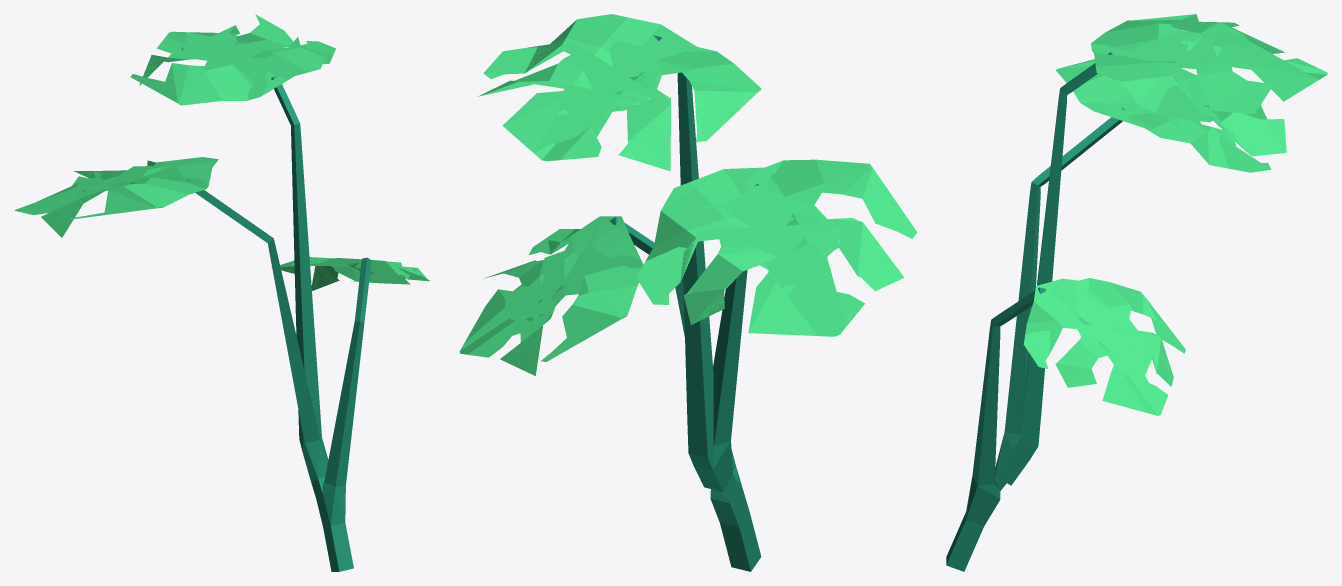
Rendered from plant1.fbx.
The picture shows the model from 3 angles, left to right: view 1: azimuth 30°, elevation 25°; view 2: azimuth 150°, elevation 25°; view 3: azimuth 270°, elevation 25°; orthographic projection. The views are drawn at different scales.
Parts seen in each view (by area): view 1: Plane; view 2: Plane; view 3: Plane.
Part boxes in pixels (x1=…): Plane: x1=14, y1=14, x2=429, y2=571; Plane: x1=459, y1=14, x2=917, y2=571; Plane: x1=946, y1=14, x2=1327, y2=571.
Size of the model in its own units: 45.56 by 58.14 by 38.9.
